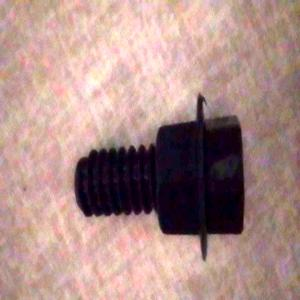parafuso: (74, 92, 244, 263)
